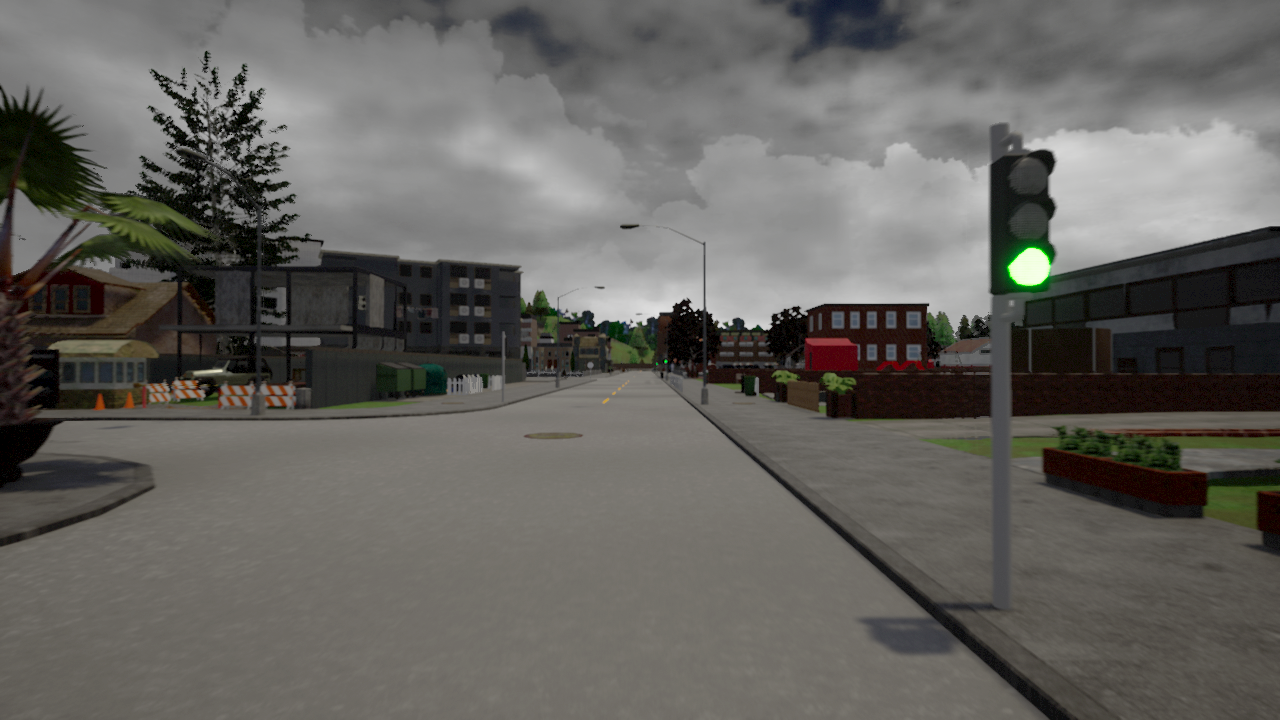green: (991, 145, 1059, 292)
